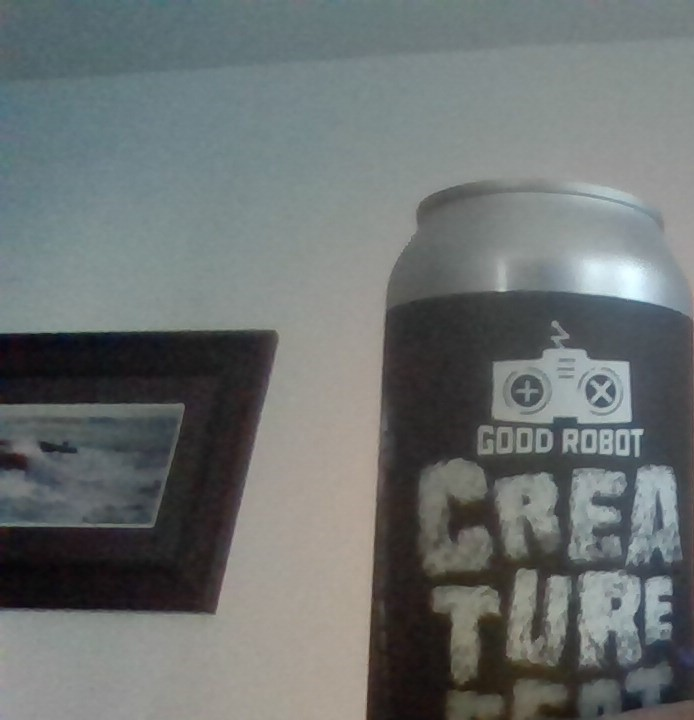Good Robot: (485, 316, 642, 426)
